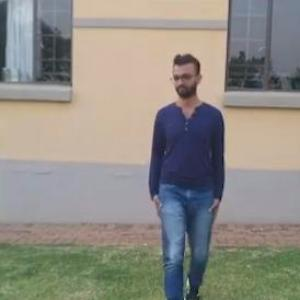follow: (146, 38, 234, 299)
